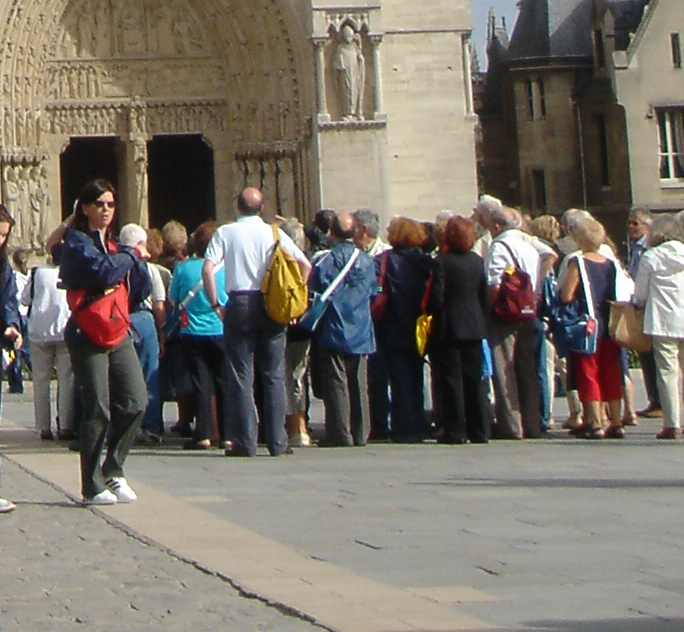person: (201, 181, 308, 457), (553, 213, 633, 437), (364, 211, 439, 439), (478, 207, 549, 437), (311, 217, 376, 449), (428, 210, 491, 442)
